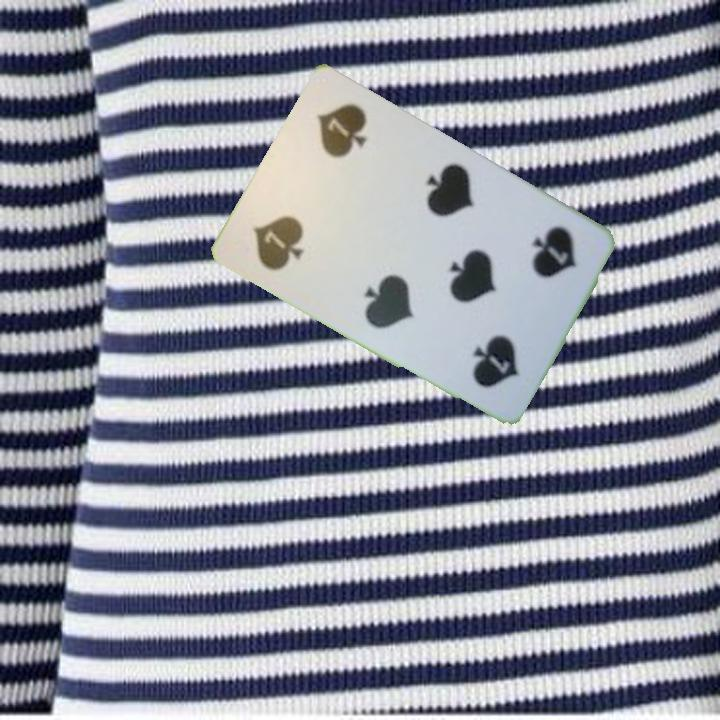s_7.png: (480, 202, 602, 330), (229, 165, 351, 292)
